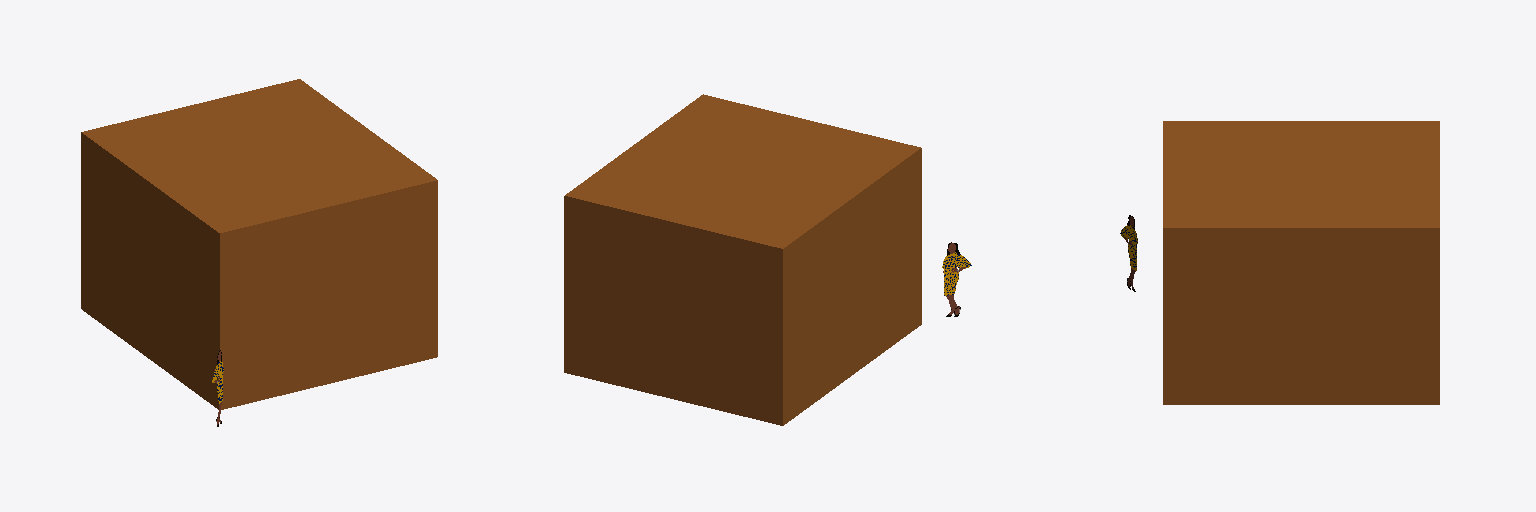
3 views of the same model, side by side, from view 1: azimuth 30°, elevation 25°; view 2: azimuth 150°, elevation 25°; view 3: azimuth 270°, elevation 25° (orthographic).
Visible parts, largest first — view 1: Mesh2 Model; view 2: Mesh2 Model, Mesh1 Sumele1 Model; view 3: Mesh2 Model, Mesh1 Sumele1 Model.
Boxes of the visible parts, x1,y1,x2,y2 form: Mesh2 Model: [81, 79, 437, 409]; Mesh2 Model: [564, 94, 921, 425]; Mesh1 Sumele1 Model: [942, 242, 971, 316]; Mesh2 Model: [1163, 121, 1439, 404]; Mesh1 Sumele1 Model: [1120, 215, 1137, 291].
Size of the model in its own units: 5.7 by 3.9 by 6.38.